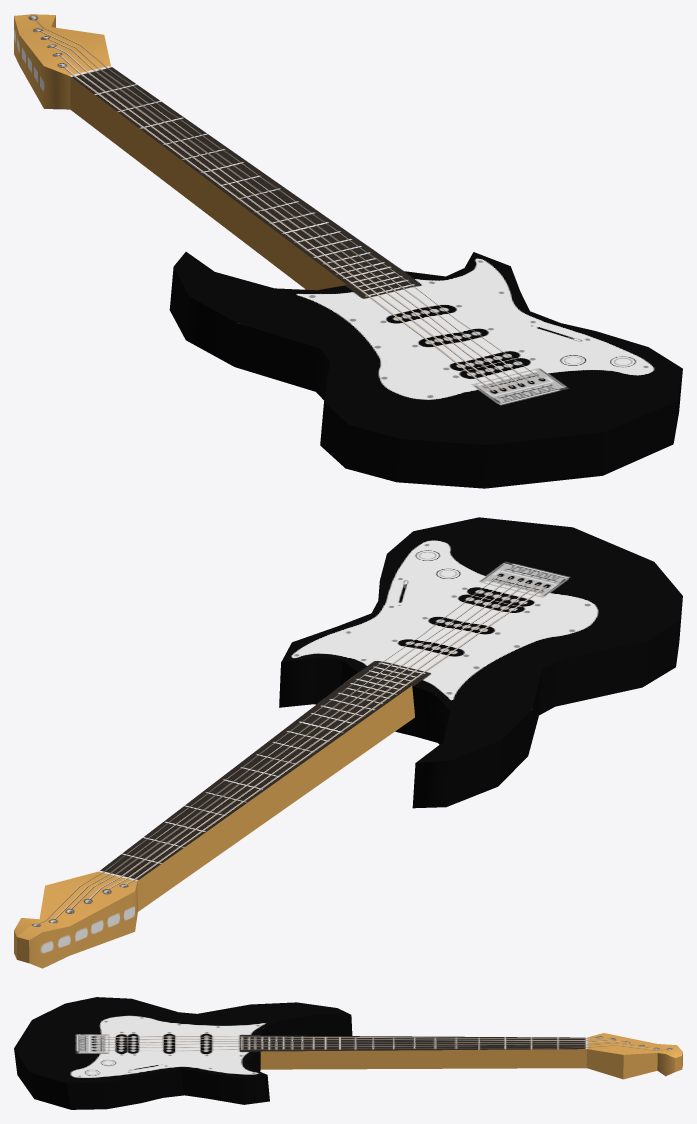
Rendered from guitarra-electrica.obj.
3 views of the same model, one above another, from view 1: azimuth 30°, elevation 25°; view 2: azimuth 150°, elevation 25°; view 3: azimuth 270°, elevation 25° (orthographic). The views are drawn at different scales.
Visible parts, largest first — view 1: guitarra-electrica_guitarra_3:Guitarra_2:pPlane4; view 2: guitarra-electrica_guitarra_3:Guitarra_2:pPlane4; view 3: guitarra-electrica_guitarra_3:Guitarra_2:pPlane4.
Part boxes in pixels (box(x1,y1,x2,y2)): guitarra-electrica_guitarra_3:Guitarra_2:pPlane4: box(14, 14, 682, 488); guitarra-electrica_guitarra_3:Guitarra_2:pPlane4: box(14, 517, 682, 968); guitarra-electrica_guitarra_3:Guitarra_2:pPlane4: box(14, 997, 682, 1109).
Bounding box in the file's own units: 4.27 × 0.7598 × 13.98.
Materials: 1 (1 with a texture image).
